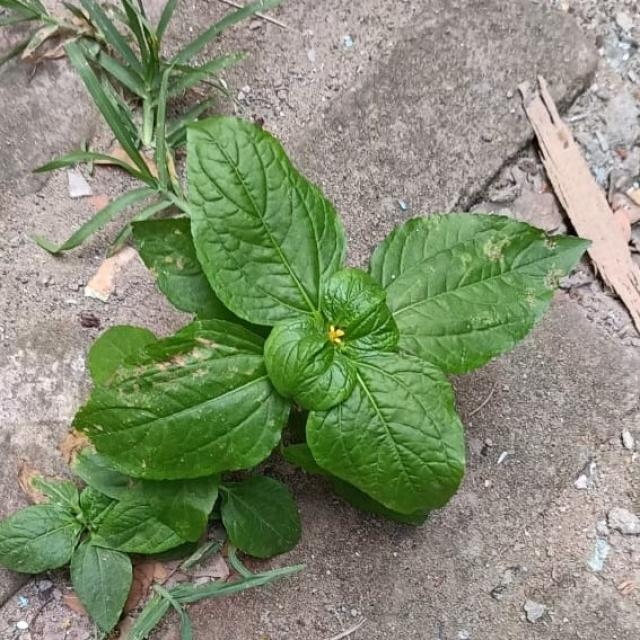weed: (1, 117, 588, 633)
